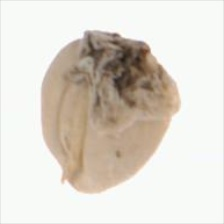L1: (82, 27, 165, 74)
L2: (41, 30, 180, 195)
